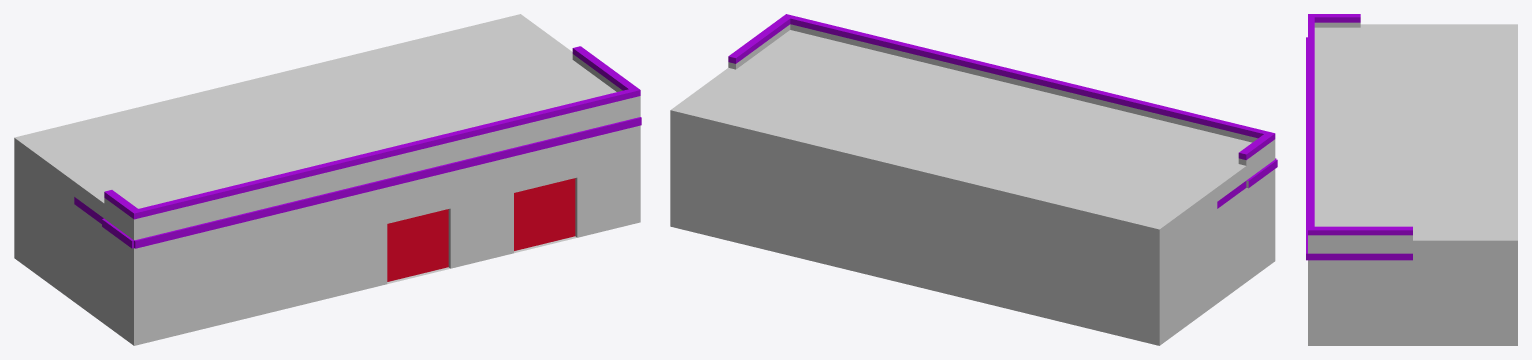
The picture shows the model from 3 angles, left to right: view 1: azimuth 30°, elevation 25°; view 2: azimuth 150°, elevation 25°; view 3: azimuth 270°, elevation 25°; orthographic projection. The views are drawn at different scales.
Visible parts, largest first — view 1: Cube.001; view 2: Cube.001; view 3: Cube.001.
Boxes of the visible parts, x1,y1,x2,y2 form: Cube.001: (14,14,641,345); Cube.001: (670,14,1277,345); Cube.001: (1306,14,1517,345).
Bounding box in the file's own units: 490 × 122 × 202.
